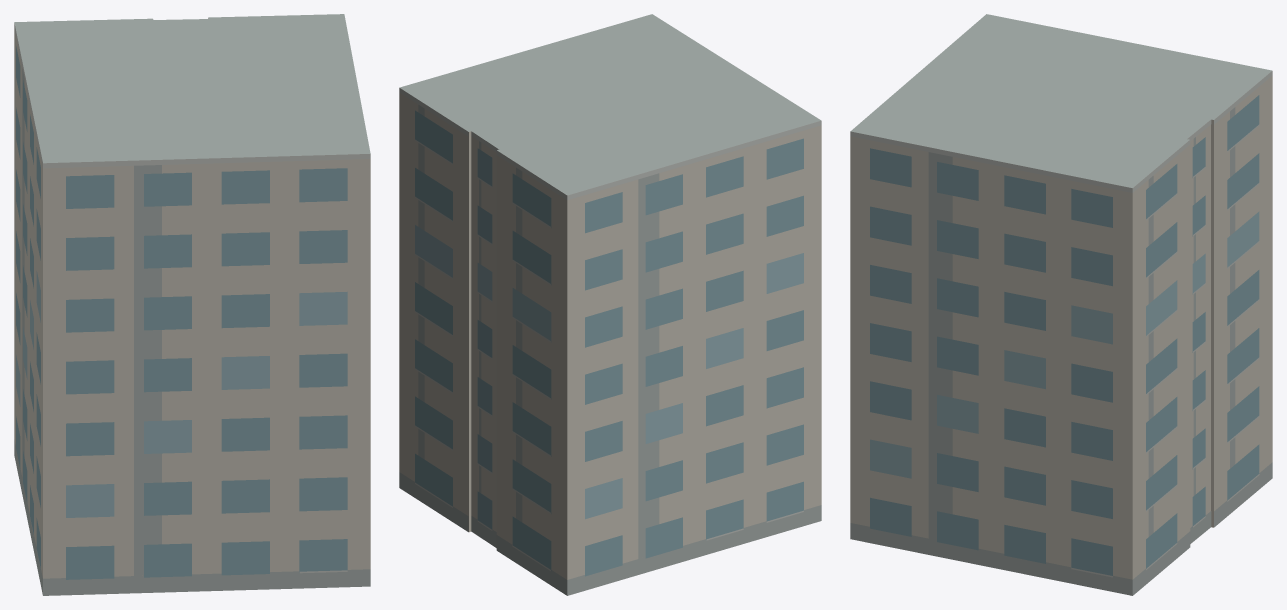
The model's file is survey-upis-32656546.glb.
The picture shows the model from 3 angles, left to right: view 1: azimuth 30°, elevation 25°; view 2: azimuth 150°, elevation 25°; view 3: azimuth 270°, elevation 25°; orthographic projection. The views are drawn at different scales.
Parts seen in each view (by area): view 1: survey-upis-32656546.tmp; view 2: survey-upis-32656546.tmp; view 3: survey-upis-32656546.tmp.
Boxes of the visible parts, x1,y1,x2,y2 form: survey-upis-32656546.tmp: (14, 14, 370, 595); survey-upis-32656546.tmp: (399, 14, 821, 595); survey-upis-32656546.tmp: (850, 14, 1272, 595).
Bounding box in the file's own units: 18.8 × 20.5 × 19.25.
